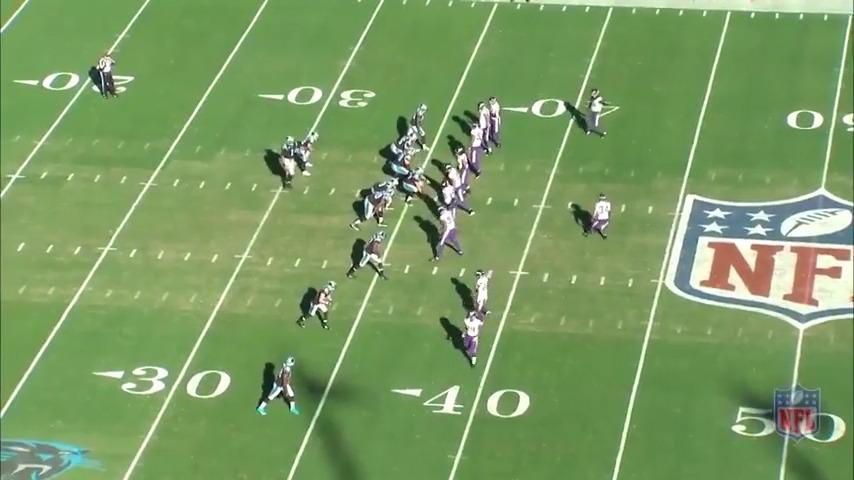player: (257, 357, 304, 423), (347, 229, 392, 284), (295, 278, 339, 333), (350, 184, 397, 232), (432, 203, 468, 264), (465, 120, 490, 184), (460, 309, 486, 370), (583, 192, 612, 244), (477, 99, 503, 156), (440, 178, 476, 219), (487, 97, 510, 156), (279, 135, 302, 193), (399, 167, 433, 206), (385, 131, 418, 168), (587, 89, 610, 142), (471, 267, 494, 319), (456, 144, 479, 195), (370, 176, 400, 215), (301, 129, 322, 182), (407, 100, 431, 142), (386, 147, 417, 179), (444, 162, 466, 202)
ref: (95, 51, 120, 103)
